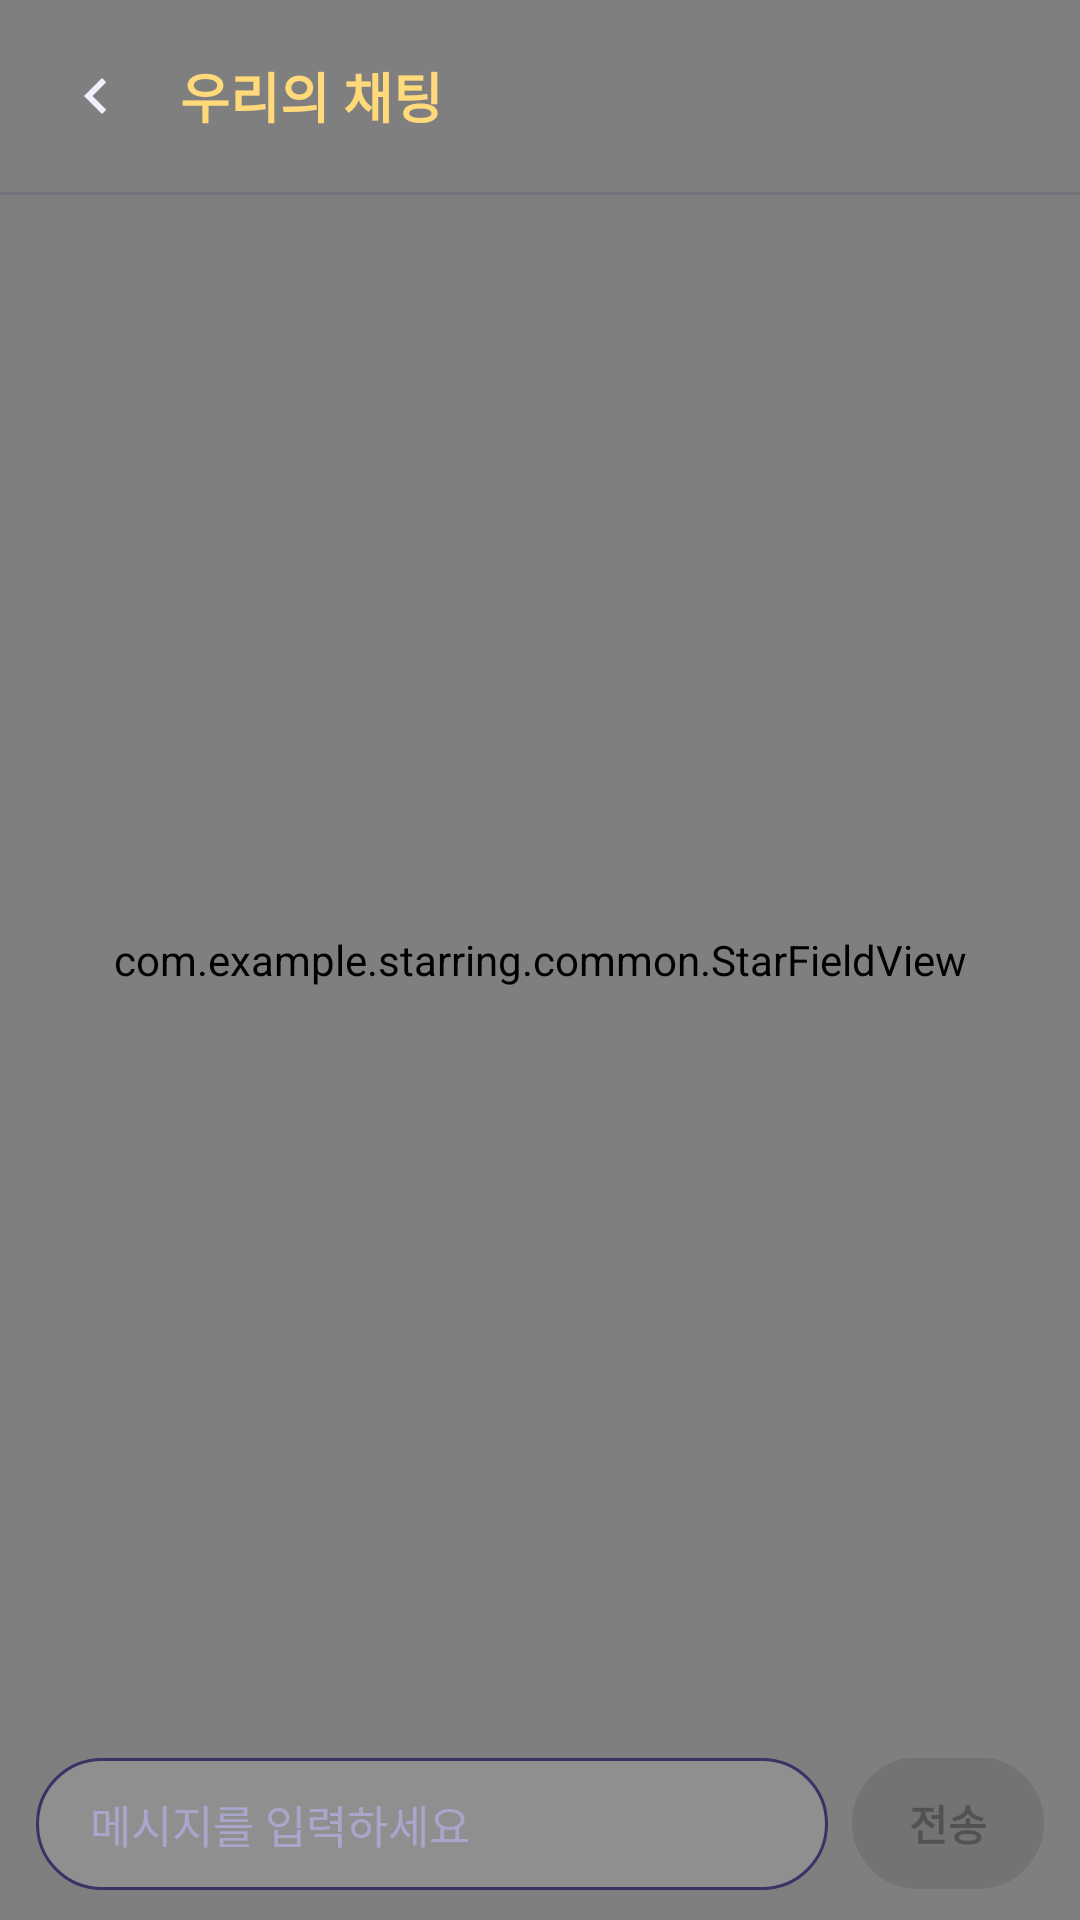

Where icons sit on this 1080*1920 app screen, as Rect(x1, y1, x2, y2):
뒤로가기: Rect(84, 78, 106, 114)
